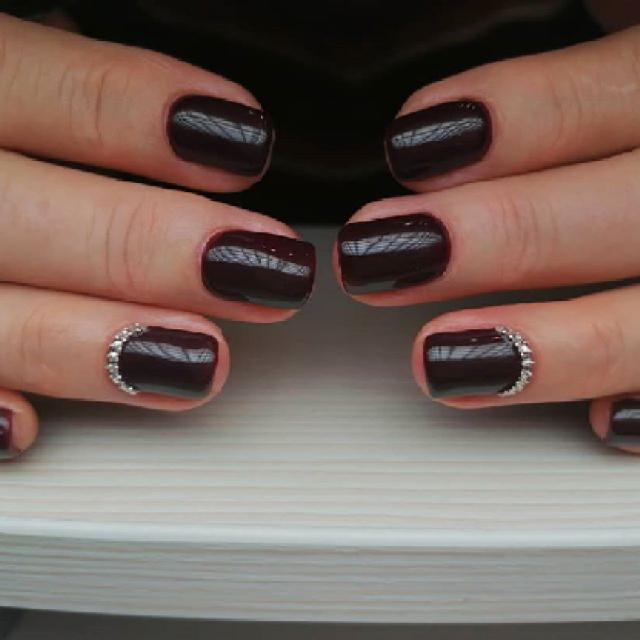Nail: (338, 214, 450, 294), (201, 231, 315, 309), (168, 95, 275, 176), (385, 100, 491, 181), (106, 324, 219, 399), (424, 326, 534, 399)
